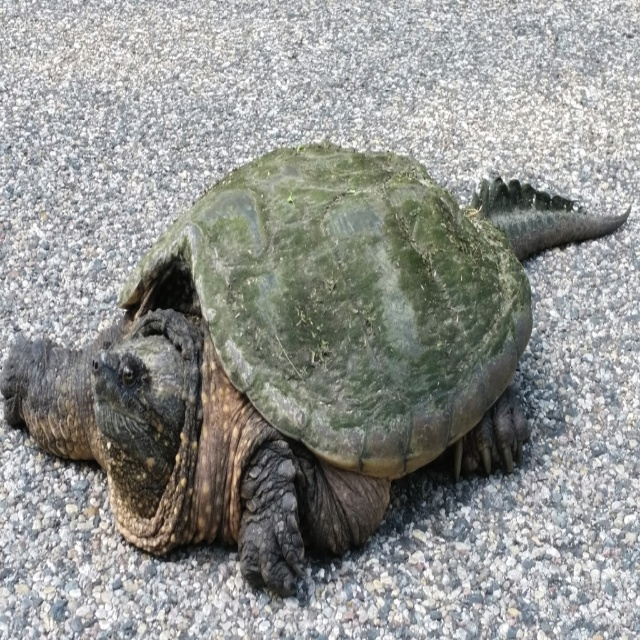Tortoise: (0, 142, 633, 596)
